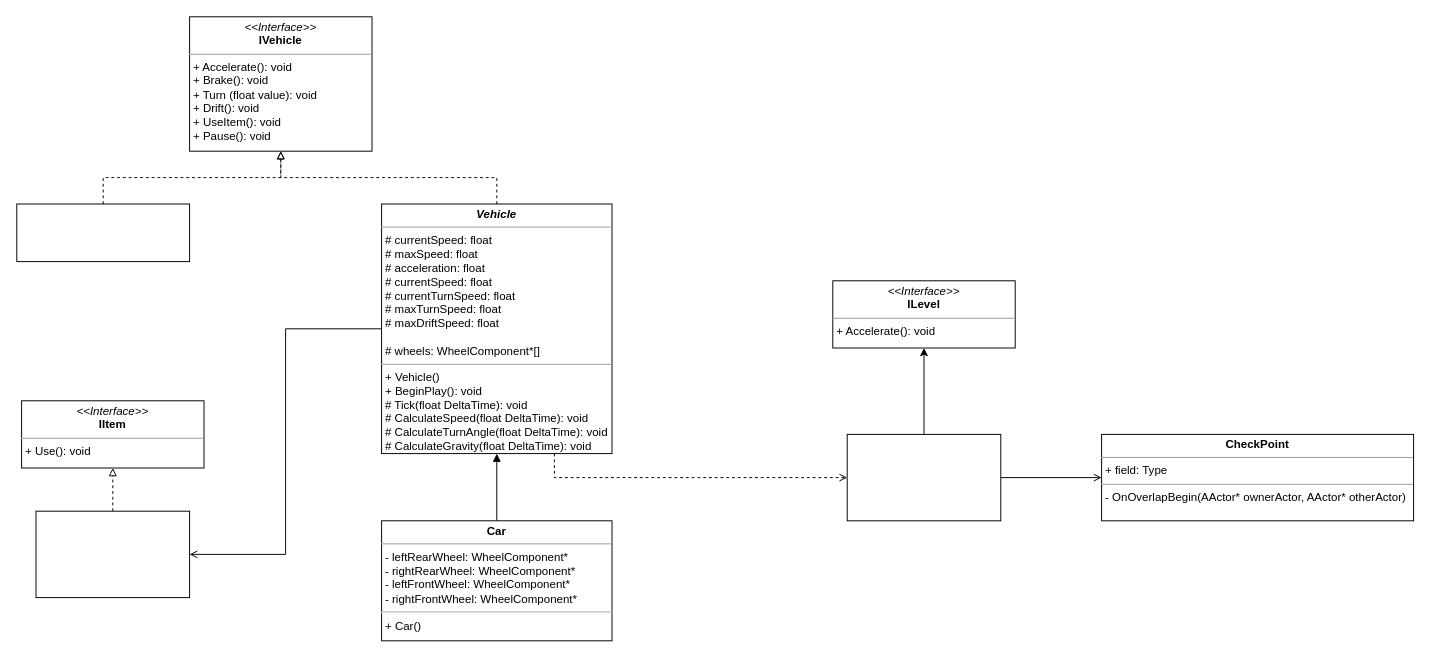
This 1430x658 diagram has some shape labels left out. The shapes that lost their labels are listed below. From the top down, each one's centre as x and y in pixels, then its label:
point 103,232: VehicleController # SetupInputComponent(): void
point 923,477: BaseLevelActor - checkpoints: CheckPoint[] + method(): Type
point 112,554: Item + field: Type
